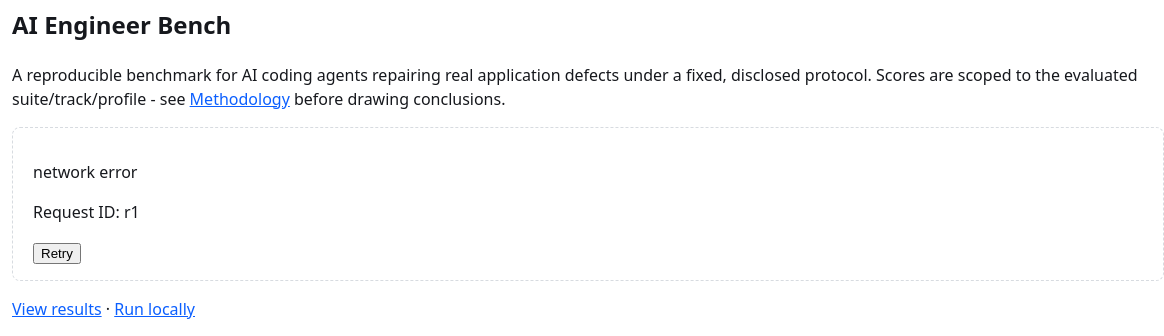
Test case: Home › shows an error state with a working Retry that re-fetches on success
The image size is (1164, 336).
Expected: the message "network error Request ID: r1 Retry" is shown, x1=12 y1=127 x2=1163 y2=281
Click the button "Retry" at coordinates (57, 253), box x1=33 y1=243 x2=81 y2=264
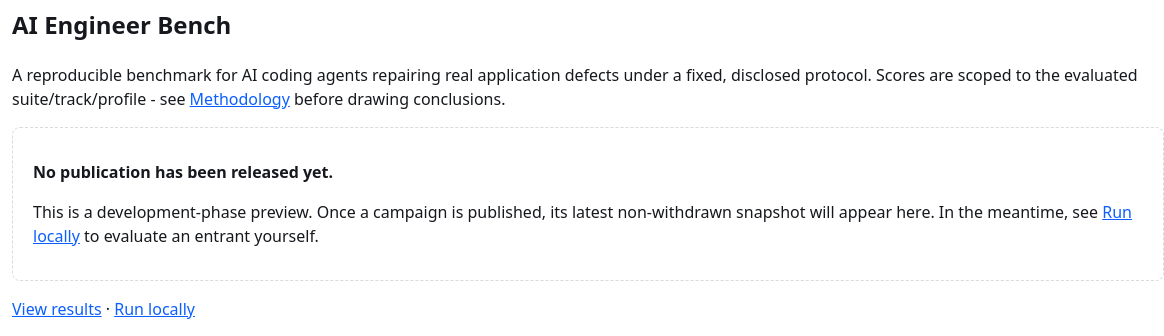
Expected: the text "No publication has been released yet." is shown, x1=33 y1=161 x2=333 y2=183
